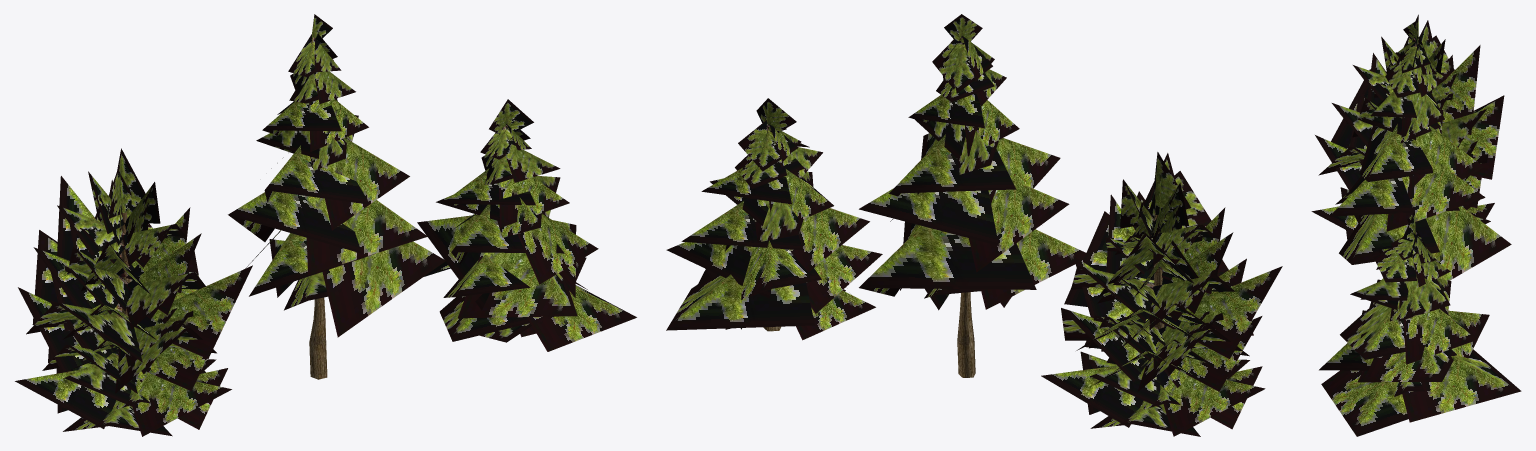
Rendered from pine-trees-pack-ps1-low-poly.glb.
3 renders of one model, left to right at view 1: azimuth 30°, elevation 25°; view 2: azimuth 150°, elevation 25°; view 3: azimuth 270°, elevation 25°, orthographic. The views are drawn at different scales.
Visible parts, largest first — view 1: Tree_Pine_T1, Tree_Pine_T2, Tree_Pine_T3; view 2: Tree_Pine_T1, Tree_Pine_T2, Tree_Pine_T3; view 3: Tree_Pine_T3, Tree_Pine_T2, Tree_Pine_T1.
Part boxes in pixels (x1,y1,x2,y2): Tree_Pine_T1: [15, 148, 252, 436]; Tree_Pine_T2: [228, 14, 445, 379]; Tree_Pine_T3: [417, 99, 636, 351]; Tree_Pine_T1: [1041, 152, 1282, 436]; Tree_Pine_T2: [859, 14, 1086, 377]; Tree_Pine_T3: [666, 98, 882, 340]; Tree_Pine_T3: [1319, 212, 1521, 436]; Tree_Pine_T2: [1330, 20, 1511, 280]; Tree_Pine_T1: [1311, 14, 1504, 239].
Bounding box in the file's own units: 30.74 × 17.92 × 11.17.
Materials: 1 (1 with a texture image).
